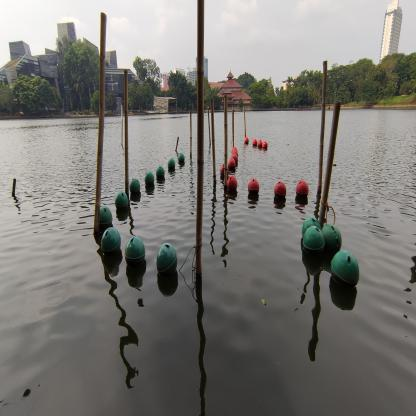green_buoy: (330, 249, 360, 292), (155, 242, 178, 278), (302, 225, 325, 261), (124, 234, 146, 271), (321, 223, 342, 254), (101, 226, 121, 258), (301, 216, 322, 240), (98, 206, 113, 230), (115, 190, 129, 212), (129, 177, 141, 196), (144, 171, 155, 188), (156, 165, 166, 181), (167, 158, 176, 171), (178, 153, 185, 165)
red_buoy: (295, 179, 310, 202), (273, 180, 287, 202), (247, 177, 260, 198), (226, 175, 238, 193), (220, 163, 229, 177), (228, 157, 236, 171), (231, 154, 238, 164), (231, 146, 238, 154), (257, 140, 263, 149), (232, 150, 238, 158), (252, 138, 258, 146), (262, 141, 268, 149), (244, 136, 249, 144)
